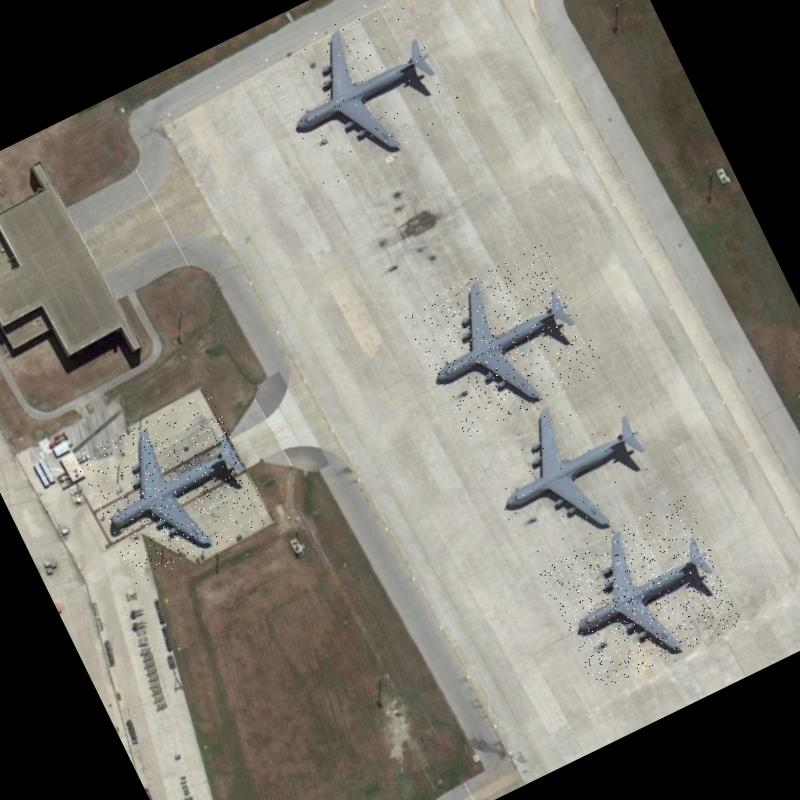A4: (468, 369, 677, 572), (400, 242, 608, 442), (536, 495, 746, 693), (260, 0, 469, 189), (73, 390, 272, 586)
